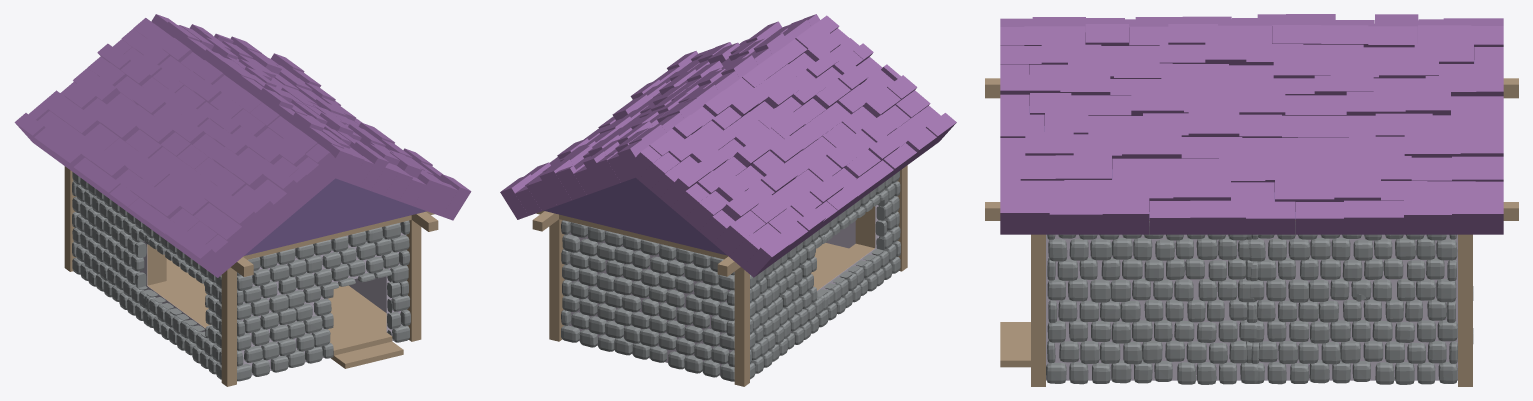
Rendered from house_2.glb.
3 renders of one model, left to right at view 1: azimuth 30°, elevation 25°; view 2: azimuth 150°, elevation 25°; view 3: azimuth 270°, elevation 25°, orthographic. The views are drawn at different scales.
Visible parts, largest first — view 1: Mesh_Mesh_head_geo.001_lambert2SG.001; view 2: Mesh_Mesh_head_geo.001_lambert2SG.001; view 3: Mesh_Mesh_head_geo.001_lambert2SG.001.
Part boxes in pixels (bbox=[...]): Mesh_Mesh_head_geo.001_lambert2SG.001: bbox=[14, 14, 471, 386]; Mesh_Mesh_head_geo.001_lambert2SG.001: bbox=[500, 14, 956, 386]; Mesh_Mesh_head_geo.001_lambert2SG.001: bbox=[985, 14, 1518, 386].
Bounding box in the file's own units: 28 × 21.96 × 35.
